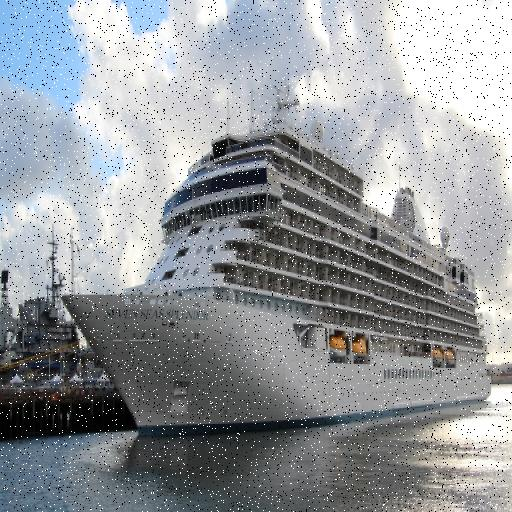cruises: (60, 78, 495, 448)
